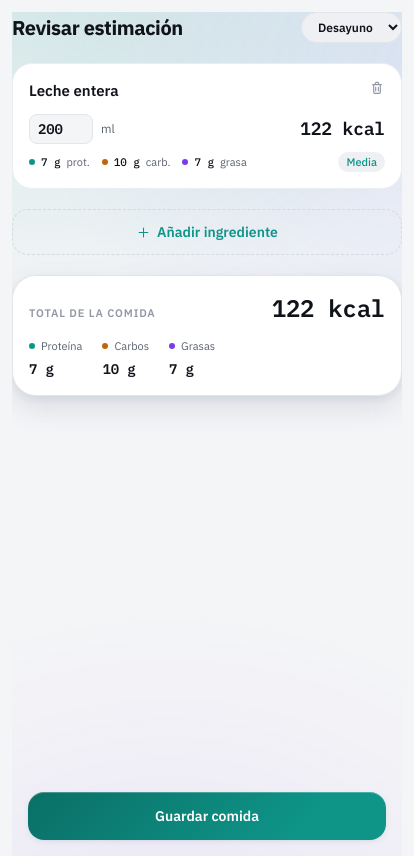
MealComposer: editar la cantidad de un ingrediente › acepta la coma decimal del teclado español
Replace the text in the field named "Cantidad en ml" with "100,5" at {"x": 61, "y": 128}, box [29, 114, 93, 144]
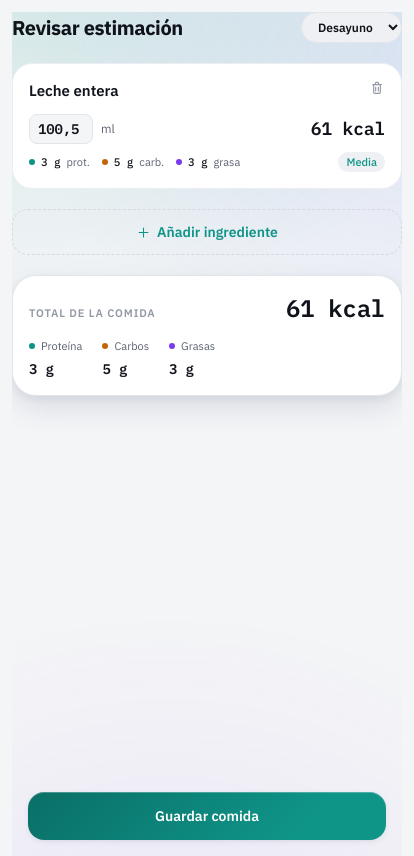
Expected: the text "61 kcal" in the row of "ml" is shown, [311, 116, 385, 140]
